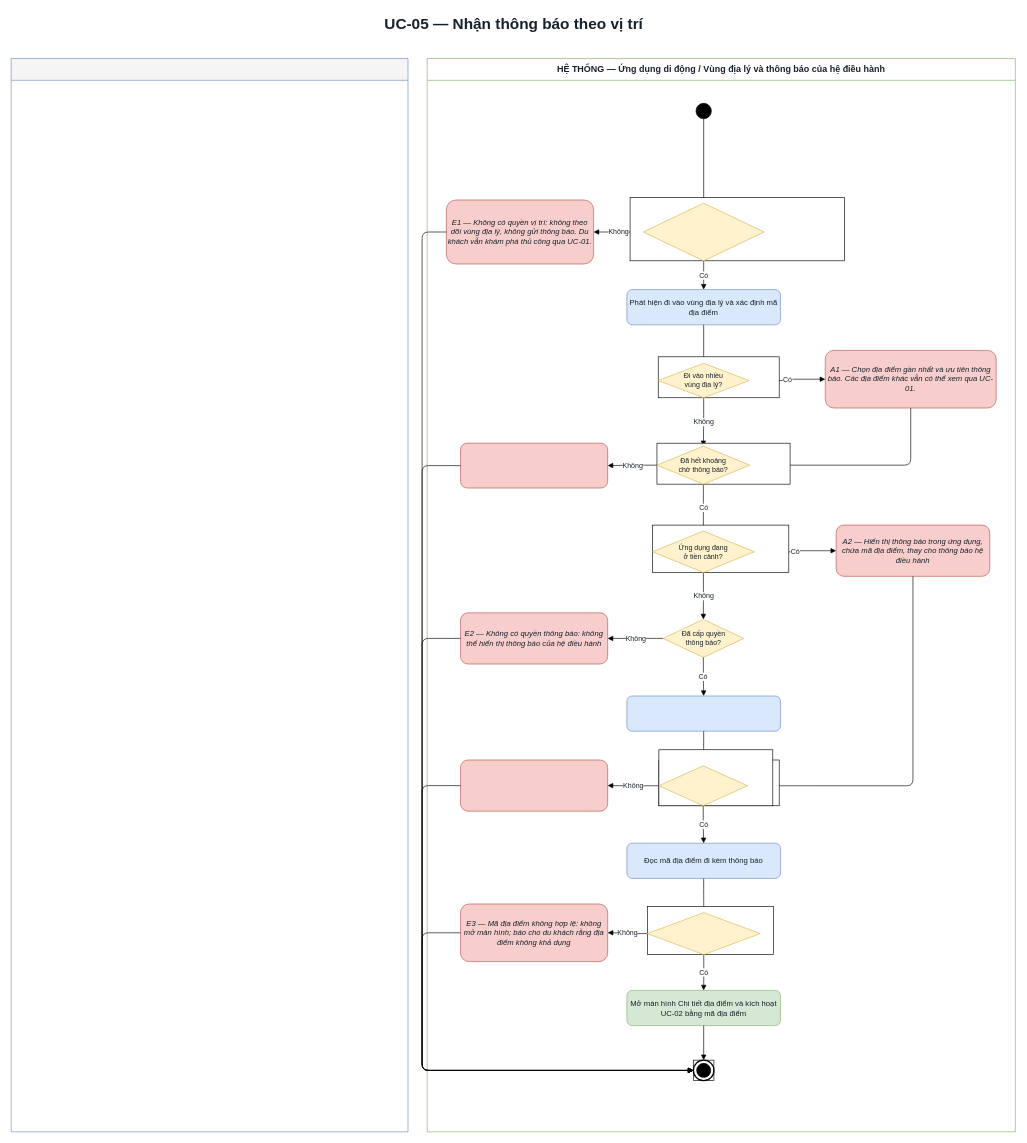
The diagram is 1027 pixels wide and 1143 high, and some of its shapes have lost their labels. Each missing label, with the centre of its shape:
"A3 — Không chọn thông báo: không điều hướng; du khách tiếp tục sử dụng ứng dụng" belongs at point (534, 785).
"A4 — Chưa hết khoảng chờ: không hiển thị thông báo (BR1)" belongs at point (534, 465).
"Du khách chọn thông báo?" belongs at point (703, 785).
"Hiển thị thông báo hệ điều hành theo ngôn ngữ ứng dụng, kèm mã địa điểm" belongs at point (703, 713).
"Mã địa điểm hợp lệ?" belongs at point (703, 933).
"TÁC NHÂN — Du khách" belongs at point (209, 595).
"Đã cấp quyền vị trí?" belongs at point (703, 232).
